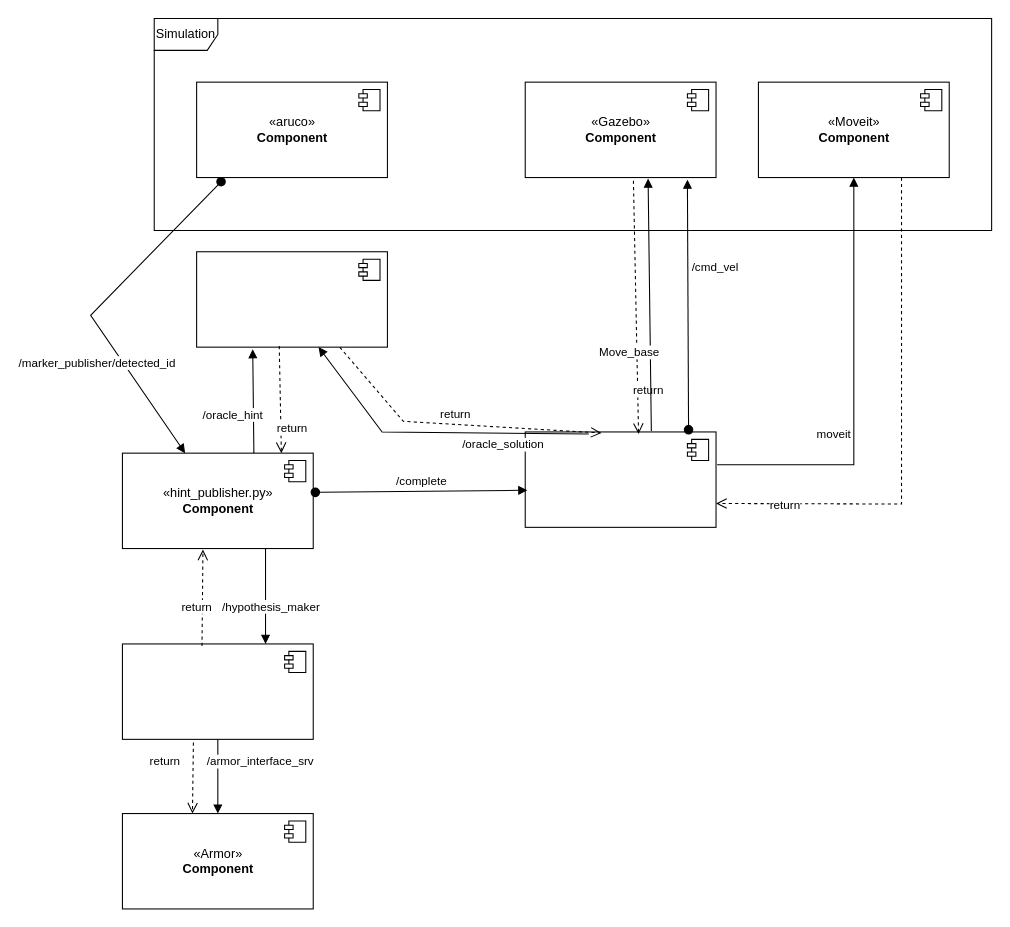
The diagram is 1010 pixels wide and 927 high, and some of its shapes have lost their labels. The shapes that lost their labels are listed below. From the top down, each one's centre as x and y in pixels, then its label:
point (291, 299): «Simulation.cpp» Component
point (620, 479): «state_machine.py» Component
point (217, 691): «hypothesis_maker.py» Component
